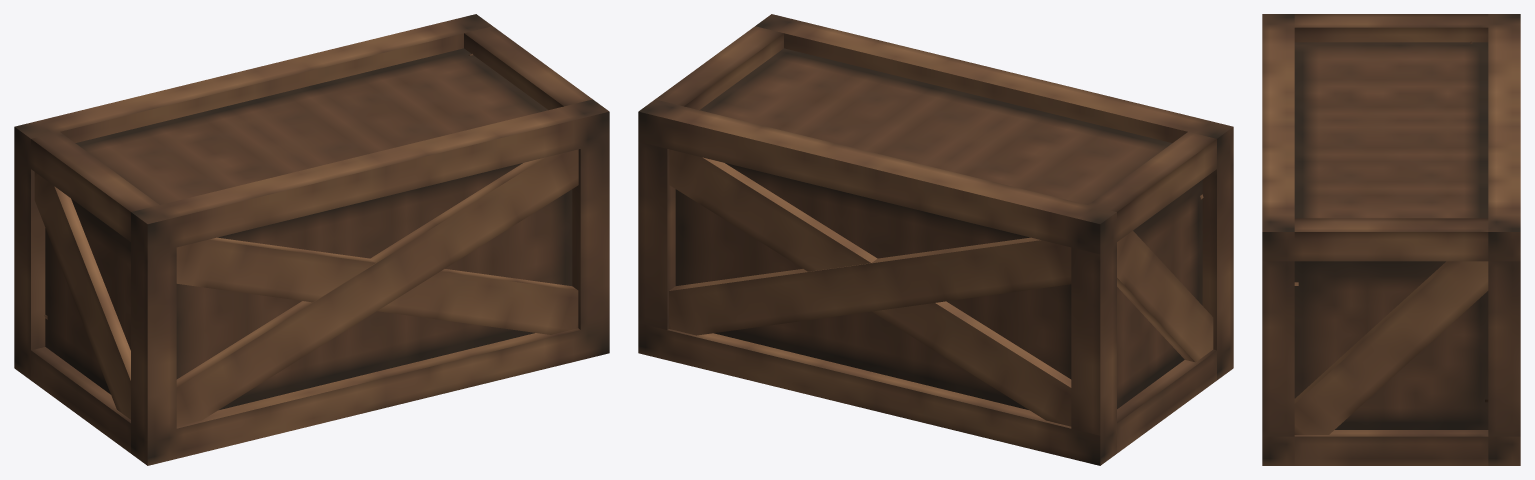
The model's file is large_crate.obj.
3 renders of one model, left to right at view 1: azimuth 30°, elevation 25°; view 2: azimuth 150°, elevation 25°; view 3: azimuth 270°, elevation 25°, orthographic. The views are drawn at different scales.
Parts seen in each view (by area): view 1: Cratebody2, BlockA, Diagonal3, BlockB, Diagonal4, BlockC, BlockE, Diagonal2, BlockD, BlockF; view 2: Cratebody2, BlockA, Diagonal4, Diagonal3, BlockB, BlockC, BlockE, Diagonal2, BlockD, BlockF; view 3: Cratebody2, BlockA, BlockE, Diagonal1, BlockD, BlockF, BlockB.
Part boxes in pixels (x1,y1,x2,y2): Cratebody2: (45,48,572,410); BlockA: (14,14,609,254); Diagonal3: (44,149,578,426); BlockB: (14,323,609,465); Diagonal4: (176,237,578,334); BlockC: (14,157,176,435); BlockE: (31,26,592,241); Diagonal2: (34,172,130,419); BlockD: (572,142,609,329); BlockF: (31,347,130,453); Cratebody2: (675,48,1202,409); BlockA: (638,14,1233,254); Diagonal4: (669,194,1203,335); Diagonal3: (669,149,1071,426); BlockB: (638,323,1233,465); BlockC: (1071,157,1233,435); BlockE: (655,26,1216,241); Diagonal2: (1117,231,1213,362); BlockD: (638,142,675,329); BlockF: (1117,349,1216,453); Cratebody2: (1294,42,1488,429); BlockA: (1262,14,1520,261); BlockE: (1294,14,1488,261); Diagonal1: (1294,261,1488,434); BlockD: (1262,261,1520,436); BlockF: (1294,430,1488,465); BlockB: (1262,436,1520,465).
Bounding box in the file's own units: 2 × 1 × 1.
